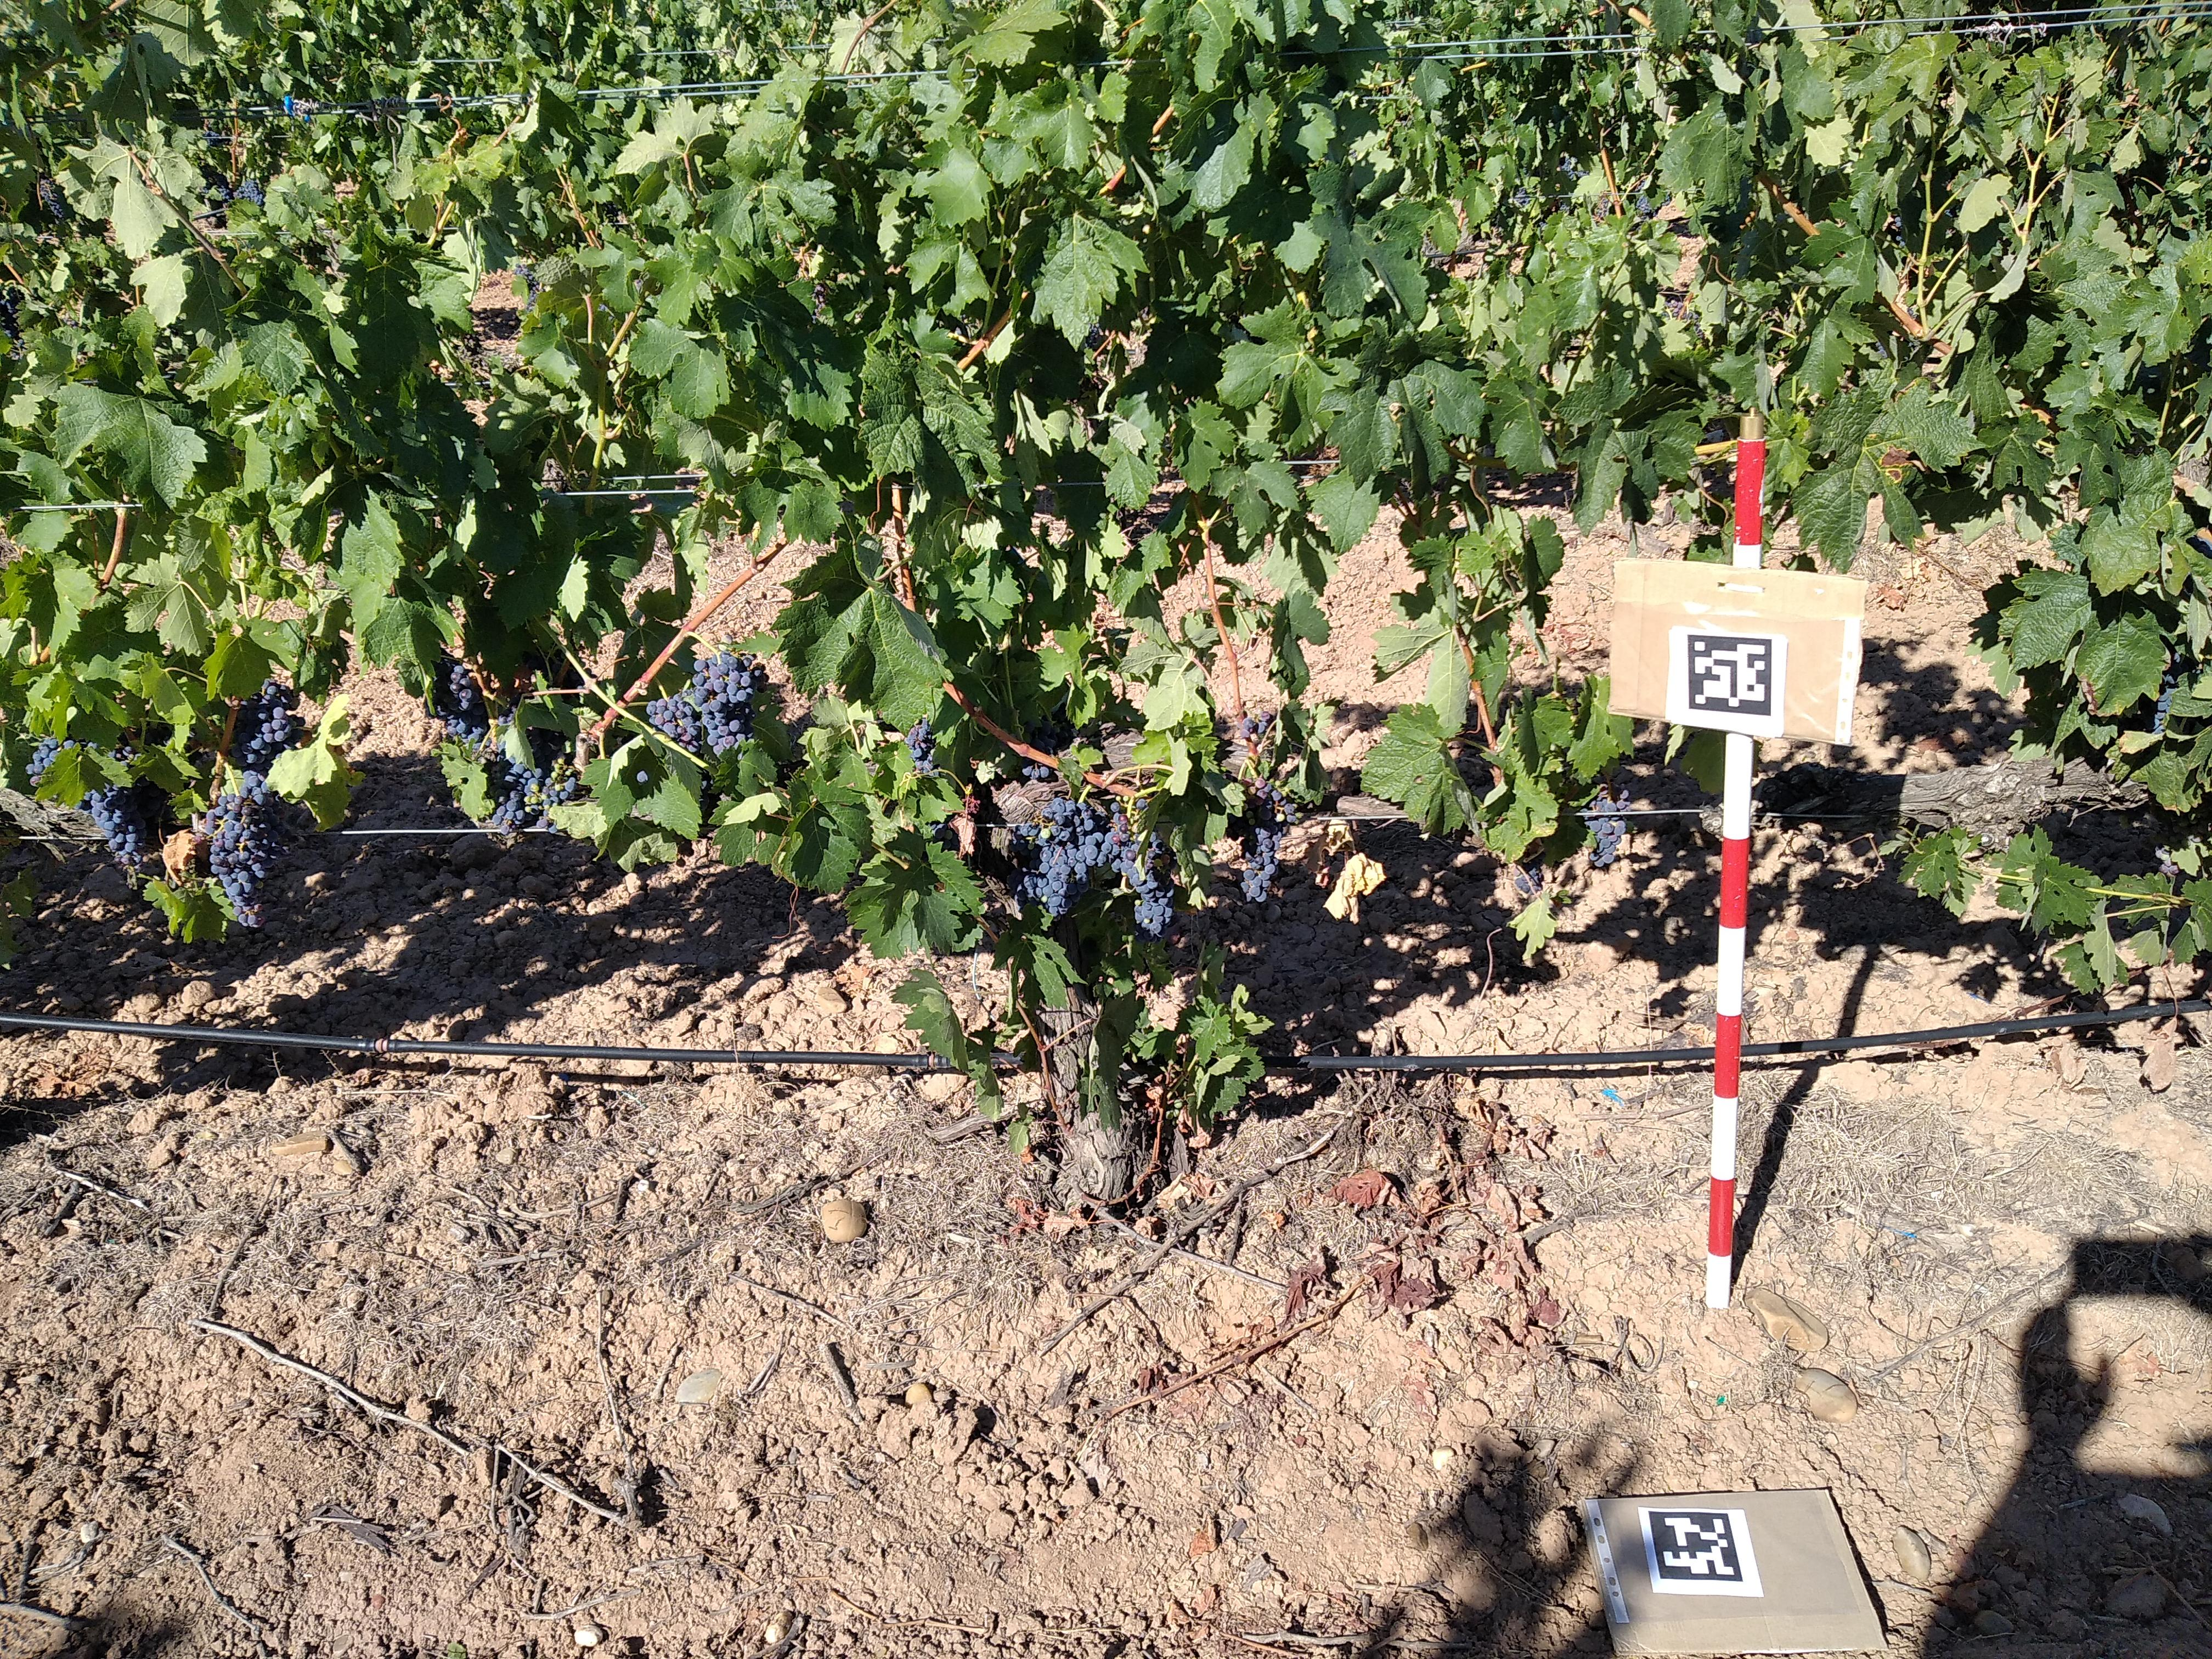0: (644, 631, 768, 807), (21, 734, 162, 864), (200, 791, 301, 929), (1007, 795, 1109, 922), (1099, 795, 1179, 945), (491, 727, 585, 840), (1226, 774, 1301, 904), (225, 674, 307, 791), (423, 643, 491, 751), (2134, 648, 2198, 735), (1575, 782, 1634, 868), (2153, 793, 2212, 878), (521, 641, 596, 699), (1015, 704, 1073, 779), (902, 716, 944, 781), (179, 739, 212, 788), (1233, 702, 1271, 742), (925, 817, 961, 856), (1510, 861, 1545, 894), (495, 687, 526, 723), (2182, 532, 2212, 559), (1163, 1096, 1184, 1121)
qr: (1686, 634, 1771, 714)
